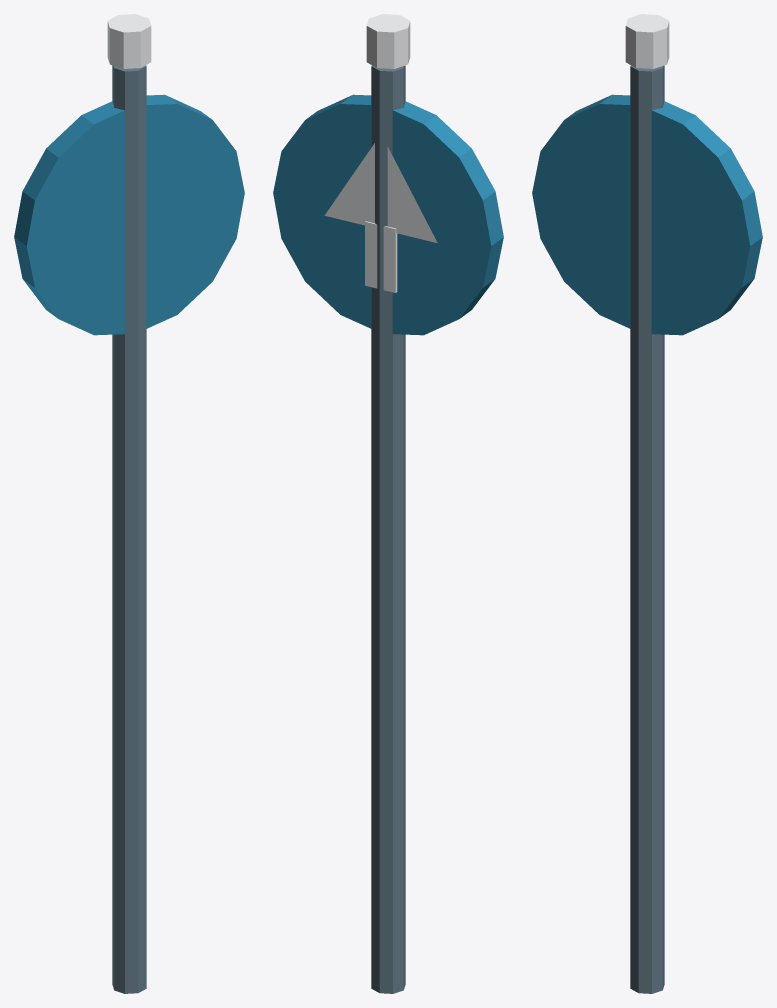
Rendered from route-marker-sunset.glb.
3 renders of one model, left to right at view 1: azimuth 30°, elevation 25°; view 2: azimuth 150°, elevation 25°; view 3: azimuth 330°, elevation 25°, orthographic.
Parts seen in each view (by area): view 1: route-marker-sunset; view 2: route-marker-sunset; view 3: route-marker-sunset.
Boxes of the visible parts, x1,y1,x2,y2 form: route-marker-sunset: [14, 14, 244, 993]; route-marker-sunset: [273, 14, 503, 993]; route-marker-sunset: [532, 14, 762, 993].
Size of the model in its own units: 0.5 by 2.11 by 0.09.
